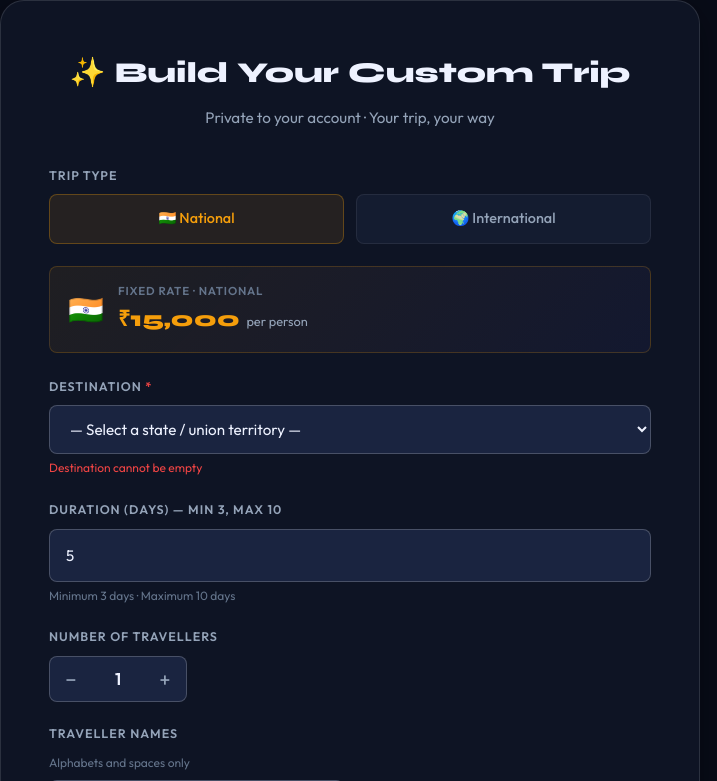
CustomPackageTab Component › shows INTERNATIONAL price when International is selected
This screenshot has width=717, height=781.
Click the button "🌍 International". click: {"x": 504, "y": 219}
box: [356,194,651,244]
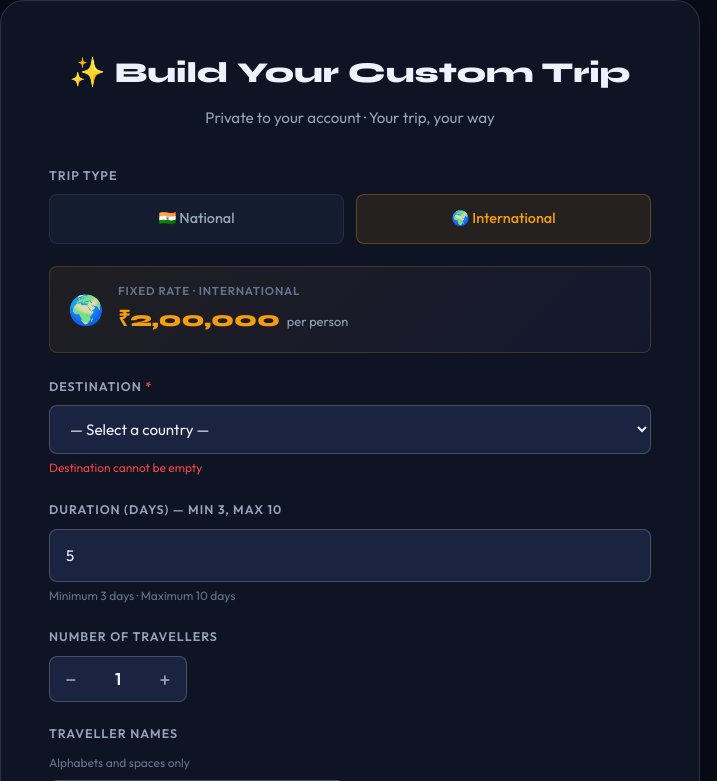
Now the text "₹2,00,000 per person" is shown, box [118,302,348,338]
